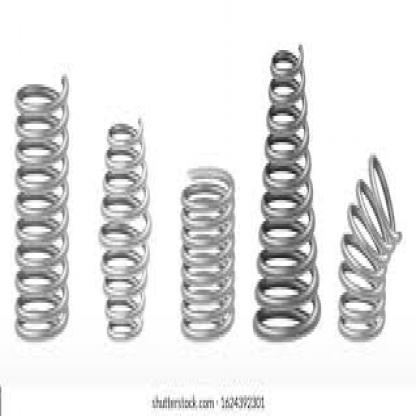FOD: (253, 43, 326, 341), (9, 60, 74, 338), (92, 108, 154, 353), (336, 147, 402, 340), (178, 157, 238, 338)
